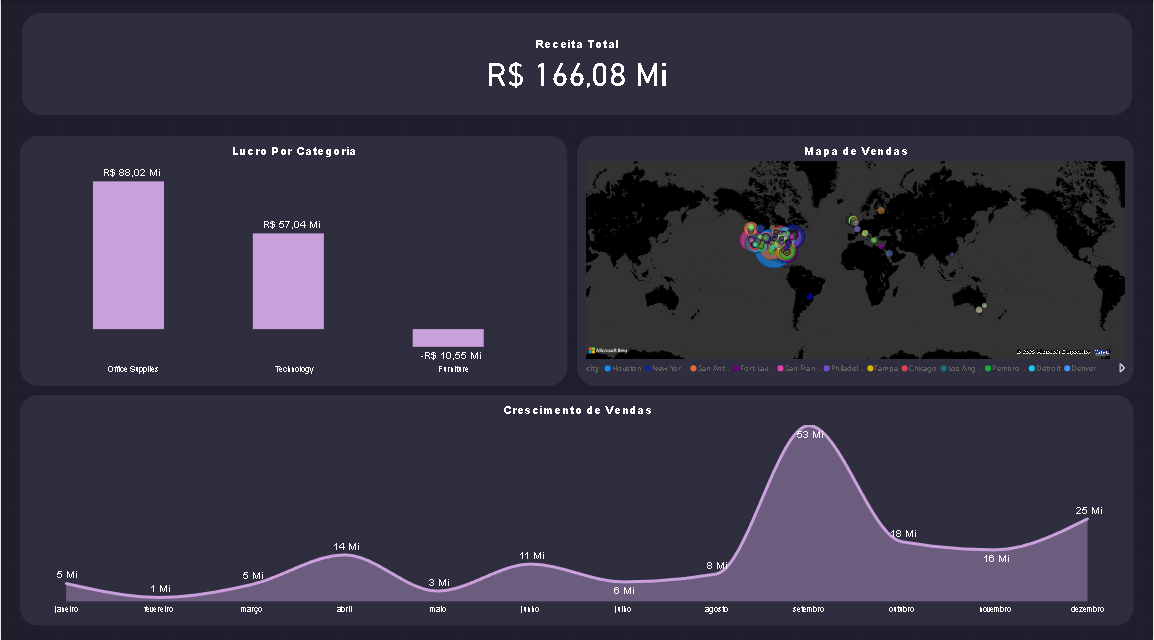

Layout of this report page (visuals, bound fields, positions):
{"tool":"powerbi","page":{"name":"DashBoard Vendas","canvas":[1920,1080],"ordinal":0},"visuals":[{"type":"map","title":"Mapa de Vendas","fields":{"Category":["Superstore.city","Superstore.country","Superstore.state"],"Size":["Sum(Superstore.sales)"],"Series":["Superstore.city"]},"box":[960,240,928,416],"z":0},{"type":"columnChart","title":"Lucro Por Categoria","fields":{"Y":["Sum(Superstore.profit)"],"Category":["Superstore.category"]},"box":[32,240,912,416],"z":1000},{"type":"cardVisual","fields":{"Data":["Sum(Superstore.sales)"]},"box":[0,0,1920,240],"z":2000},{"type":"lineChart","title":"Crescimento de Vendas","fields":{"Category":["Superstore.order_date.Variation.Hierarquia de datas.Mês"],"Y":["Sum(Superstore.sales)"]},"box":[32,672,1856,384],"z":3000}]}

Visuals, with their boxes in screenshot pixels (x1, y1, x2, y2), scaled from the page's 1920x1080 canvas onto the 1154x640 screenshot:
"Mapa de Vendas" map: l=577, t=142, r=1135, b=389
"Lucro Por Categoria" columnChart: l=19, t=142, r=567, b=389
cardVisual - Sum(Superstore.sales): l=0, t=0, r=1153, b=142
"Crescimento de Vendas" lineChart: l=19, t=398, r=1135, b=626
